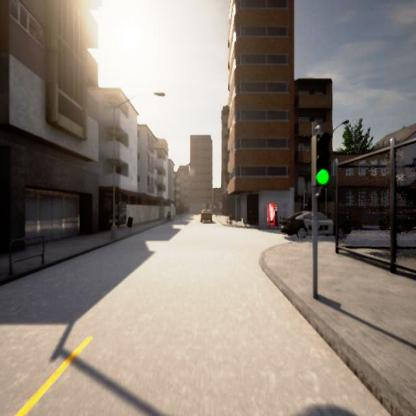vehicle: (280, 211, 334, 240), (200, 208, 212, 224)
